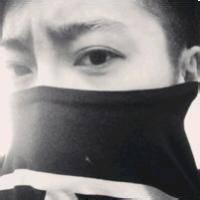face_mask: (1, 1, 177, 177)
